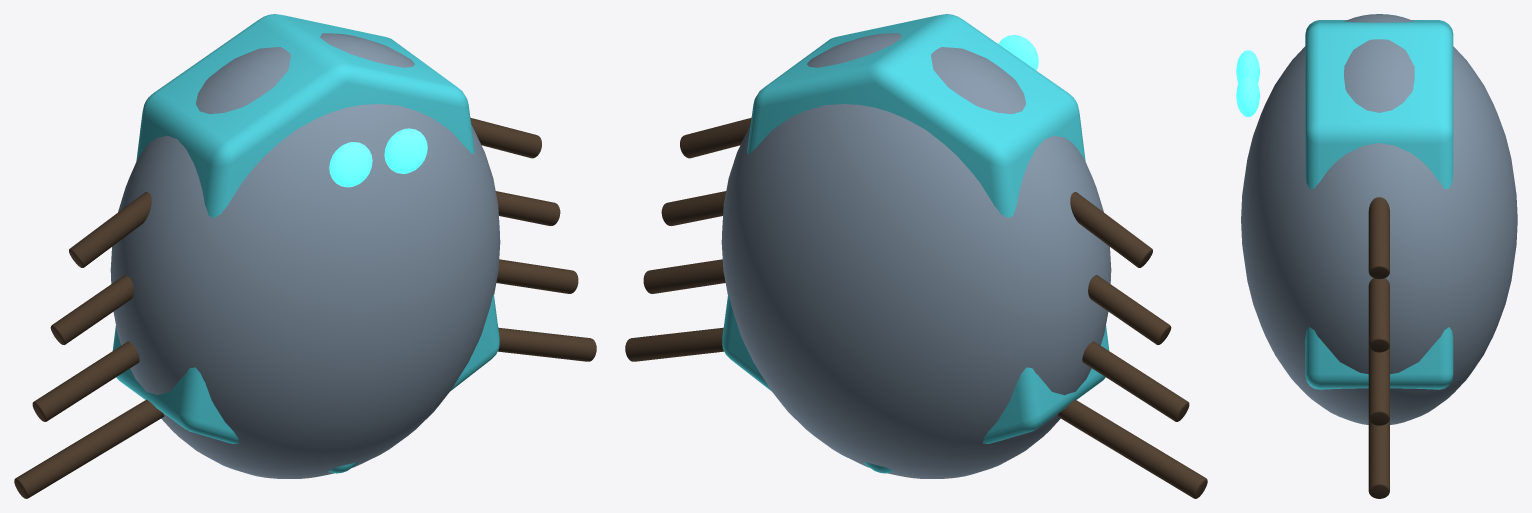
Rendered from arachnid_v4.glb.
3 views of the same model, side by side, from view 1: azimuth 30°, elevation 25°; view 2: azimuth 150°, elevation 25°; view 3: azimuth 270°, elevation 25° (orthographic). The views are drawn at different scales.
Visible parts, largest first — view 1: TICK_BODY_PRIMARY, TICK_SHIELD_ACCENT, TICK_LEG_SECONDARY.006, TICK_LEG_SECONDARY.004, TICK_LEG_SECONDARY.007, TICK_LEG_SECONDARY, TICK_LEG_SECONDARY.002, TICK_LEG_SECONDARY.005, TICK_LEG_SECONDARY.001, EYE_EMISSIVE, EYE_EMISSIVE.001, TICK_LEG_SECONDARY.003; view 2: TICK_BODY_PRIMARY, TICK_SHIELD_ACCENT, TICK_LEG_SECONDARY.006, TICK_LEG_SECONDARY.004, TICK_LEG_SECONDARY.007, TICK_LEG_SECONDARY, TICK_LEG_SECONDARY.002, TICK_LEG_SECONDARY.005, TICK_LEG_SECONDARY.001, TICK_LEG_SECONDARY.003, EYE_EMISSIVE; view 3: TICK_BODY_PRIMARY, TICK_SHIELD_ACCENT, TICK_LEG_SECONDARY.001, TICK_LEG_SECONDARY.005, TICK_LEG_SECONDARY.007, TICK_LEG_SECONDARY.003, EYE_EMISSIVE.001, EYE_EMISSIVE.
Part boxes in pixels (x1=…): TICK_BODY_PRIMARY: x1=110, y1=33, x2=500, y2=478; TICK_SHIELD_ACCENT: x1=112, y1=14, x2=499, y2=473; TICK_LEG_SECONDARY.006: x1=14, y1=399, x2=164, y2=498; TICK_LEG_SECONDARY.004: x1=32, y1=341, x2=139, y2=421; TICK_LEG_SECONDARY.007: x1=498, y1=327, x2=596, y2=361; TICK_LEG_SECONDARY: x1=69, y1=192, x2=151, y2=267; TICK_LEG_SECONDARY.002: x1=50, y1=275, x2=133, y2=344; TICK_LEG_SECONDARY.005: x1=496, y1=259, x2=578, y2=293; TICK_LEG_SECONDARY.001: x1=470, y1=117, x2=541, y2=158; EYE_EMISSIVE: x1=329, y1=142, x2=372, y2=187; EYE_EMISSIVE.001: x1=384, y1=128, x2=427, y2=173; TICK_LEG_SECONDARY.003: x1=495, y1=191, x2=560, y2=225; TICK_BODY_PRIMARY: x1=721, y1=33, x2=1111, y2=478; TICK_SHIELD_ACCENT: x1=722, y1=14, x2=1109, y2=473; TICK_LEG_SECONDARY.006: x1=1057, y1=399, x2=1207, y2=498; TICK_LEG_SECONDARY.004: x1=1082, y1=341, x2=1189, y2=421; TICK_LEG_SECONDARY.007: x1=625, y1=327, x2=723, y2=361; TICK_LEG_SECONDARY: x1=1070, y1=192, x2=1152, y2=267; TICK_LEG_SECONDARY.002: x1=1088, y1=275, x2=1171, y2=344; TICK_LEG_SECONDARY.005: x1=643, y1=259, x2=725, y2=293; TICK_LEG_SECONDARY.001: x1=680, y1=117, x2=751, y2=158; TICK_LEG_SECONDARY.003: x1=661, y1=191, x2=726, y2=225; EYE_EMISSIVE: x1=998, y1=35, x2=1038, y2=70; TICK_BODY_PRIMARY: x1=1241, y1=14, x2=1517, y2=424; TICK_SHIELD_ACCENT: x1=1305, y1=20, x2=1453, y2=389; TICK_LEG_SECONDARY.001: x1=1368, y1=197, x2=1389, y2=279; TICK_LEG_SECONDARY.005: x1=1368, y1=346, x2=1389, y2=425; TICK_LEG_SECONDARY.007: x1=1368, y1=419, x2=1389, y2=498; TICK_LEG_SECONDARY.003: x1=1368, y1=278, x2=1389, y2=352; EYE_EMISSIVE.001: x1=1236, y1=74, x2=1259, y2=116; EYE_EMISSIVE: x1=1236, y1=50, x2=1259, y2=83.
Size of the model in its own units: 2.5 by 1.78 by 1.18.
